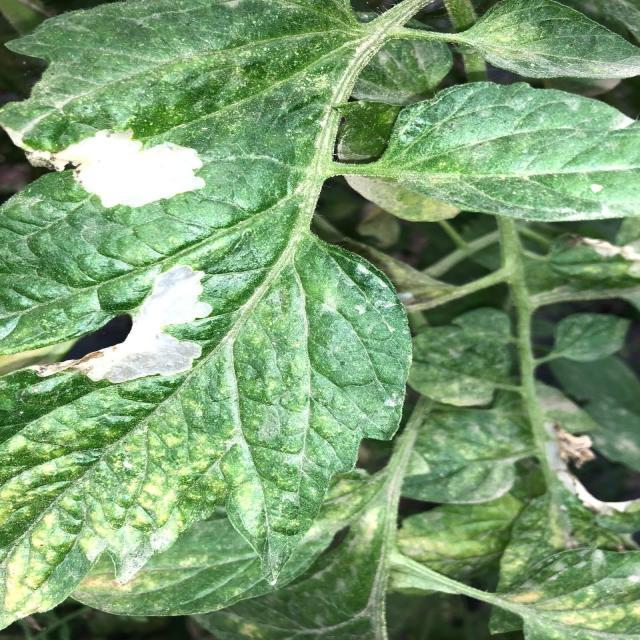Tuta absoluta: (31, 253, 244, 443), (30, 128, 204, 209)
